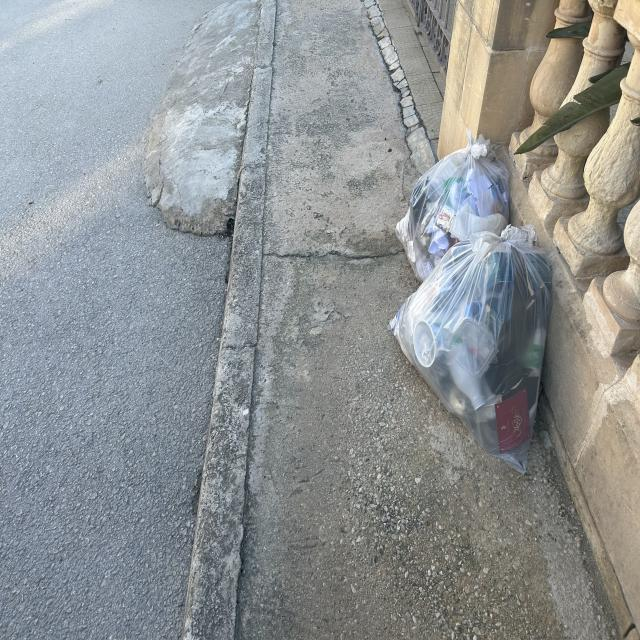grey_bag: (386, 223, 556, 481), (392, 125, 514, 285)
